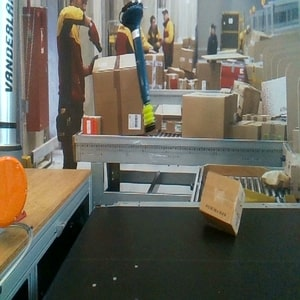box: (198, 171, 246, 236)
